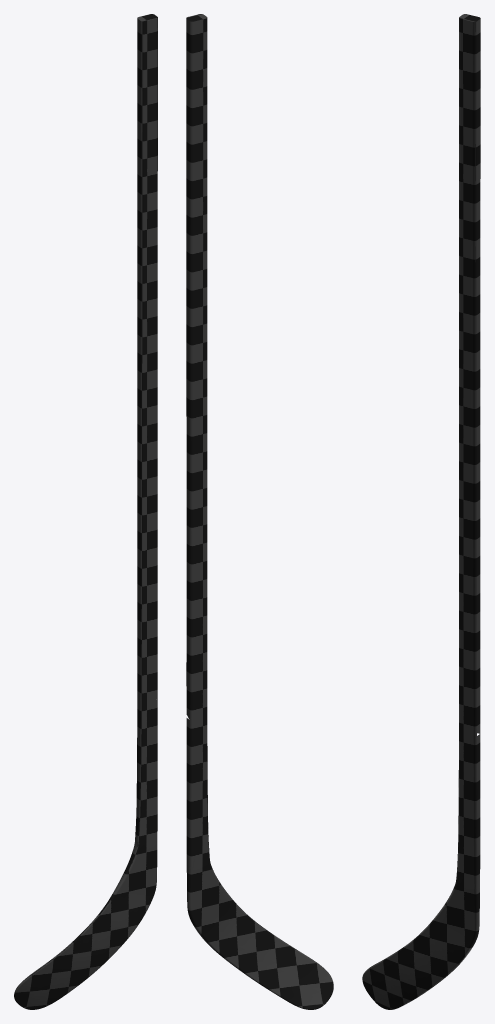
3 renders of one model, left to right at view 1: azimuth 30°, elevation 25°; view 2: azimuth 210°, elevation 25°; view 3: azimuth 330°, elevation 25°, orthographic. The views are drawn at different scales.
Visible parts, largest first — view 1: geometry_0; view 2: geometry_0; view 3: geometry_0.
Boxes of the visible parts, x1,y1,x2,y2 form: geometry_0: (14, 14, 157, 1009); geometry_0: (186, 14, 333, 1009); geometry_0: (362, 14, 480, 1009).
Size of the model in its own units: 222 by 1650 by 63.71.
Materials: 1 (1 with a texture image).
